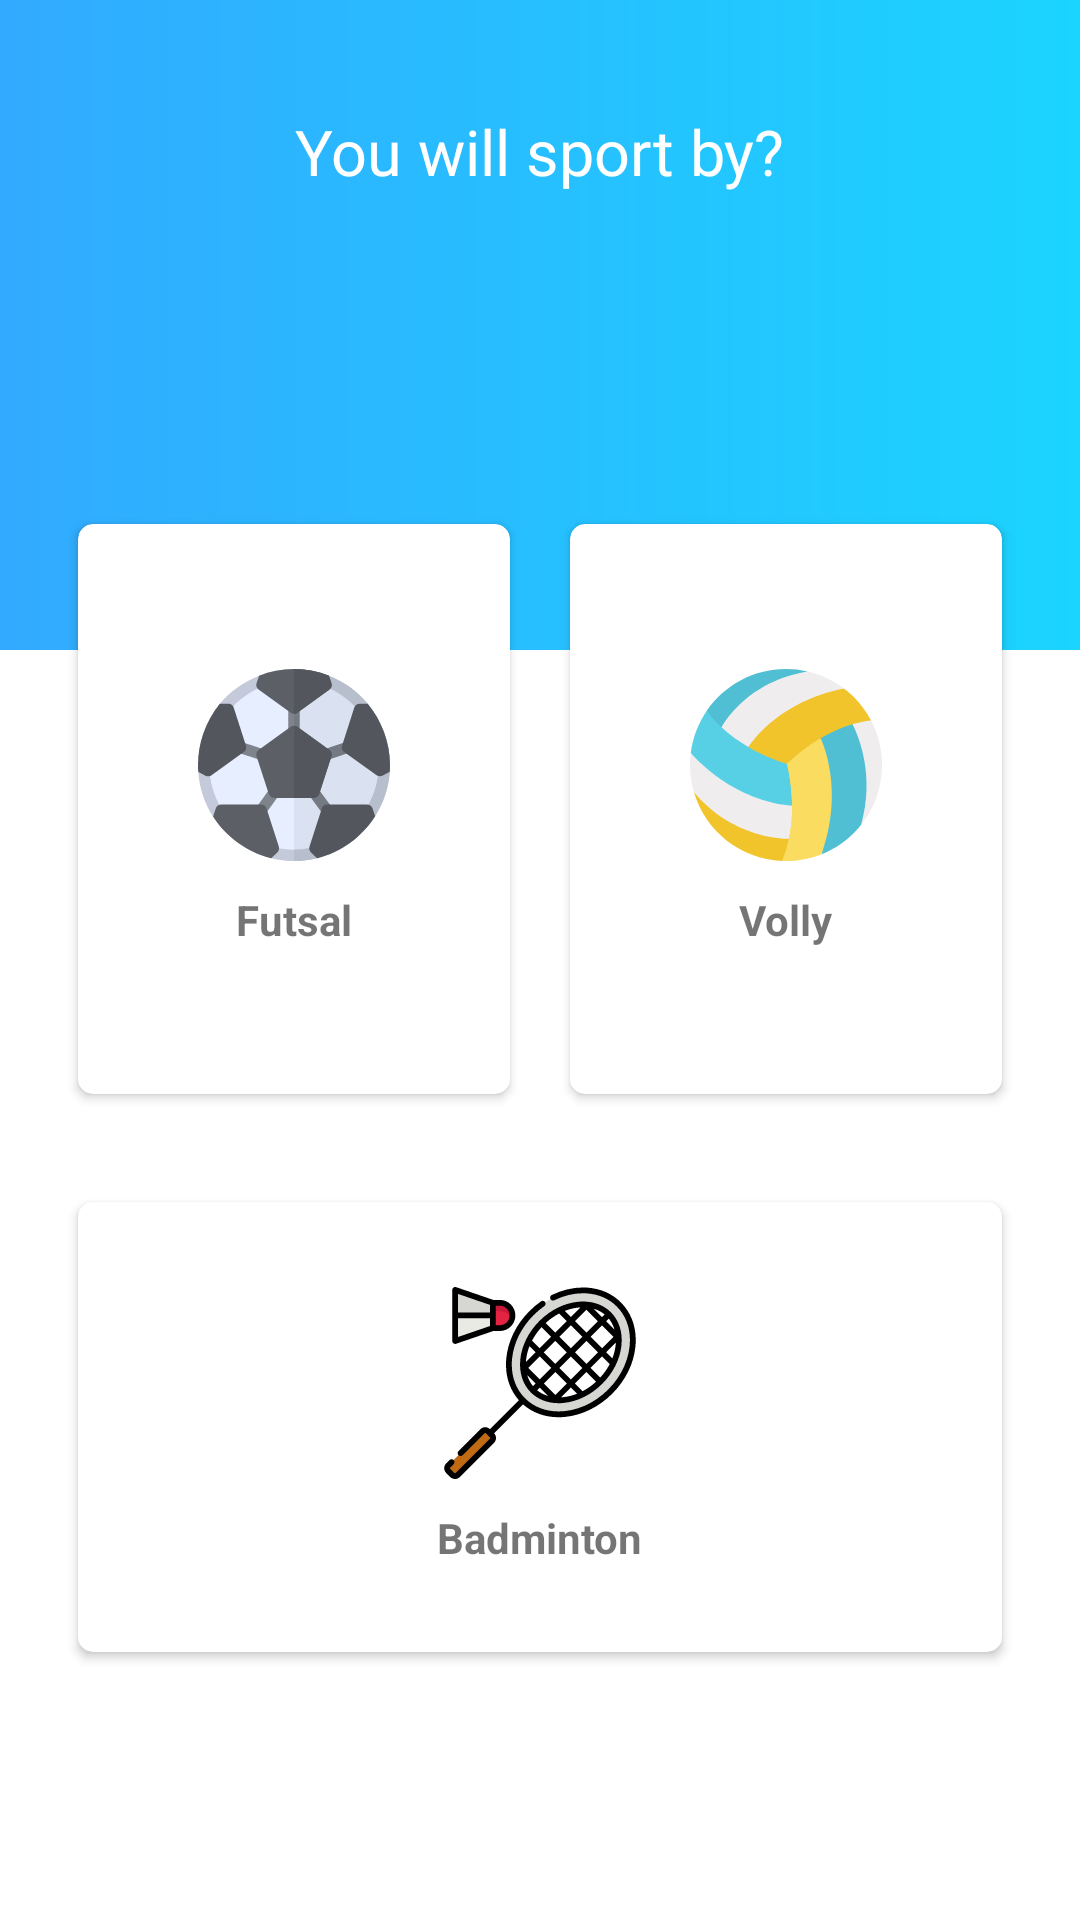

Icon bounding boxes for this 1080w x 1920h phone screenshot, format (x1,y1,x2,y2):
soccer: (198,669,390,861)
